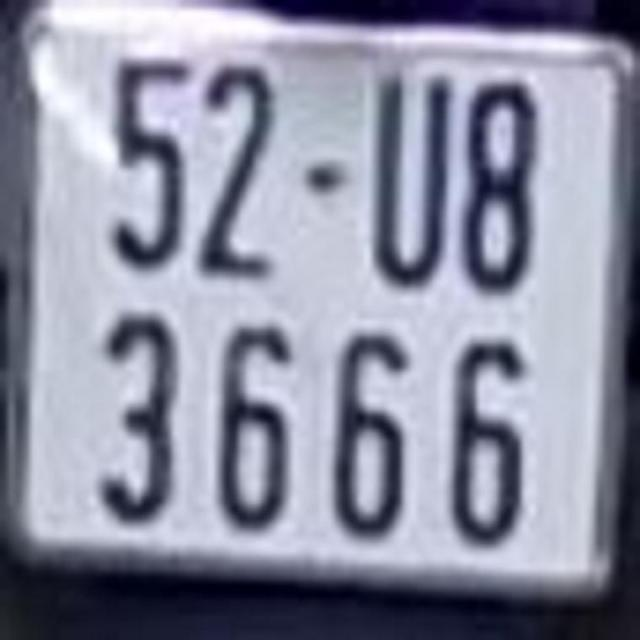2: (196, 52, 272, 278)
3: (98, 304, 176, 526)
5: (110, 46, 190, 272)
6: (210, 316, 292, 524), (450, 327, 530, 540), (331, 320, 408, 540)
8: (463, 74, 539, 285)
U: (366, 62, 456, 284)
